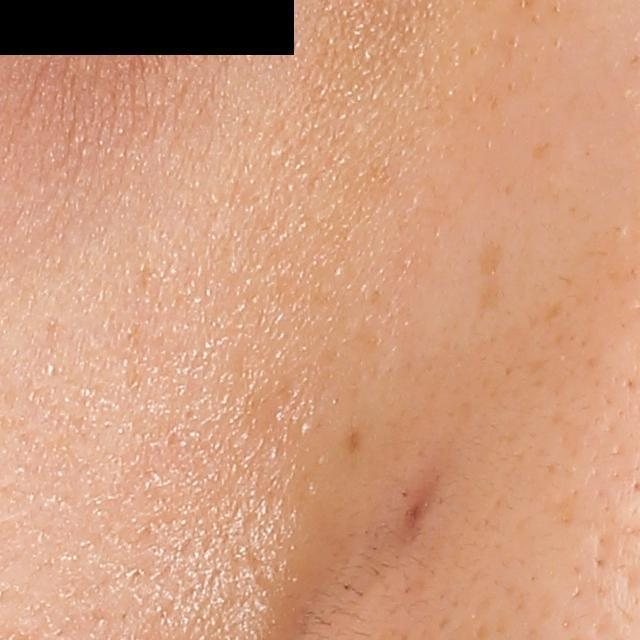atrophic_scar: (592, 532, 617, 576)
melasma: (473, 234, 512, 283), (527, 138, 551, 162)
nevus: (340, 427, 361, 456)
